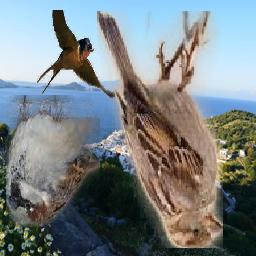Sparrow: (97, 12, 223, 249), (6, 95, 100, 227)
Swallow: (38, 11, 117, 102)
